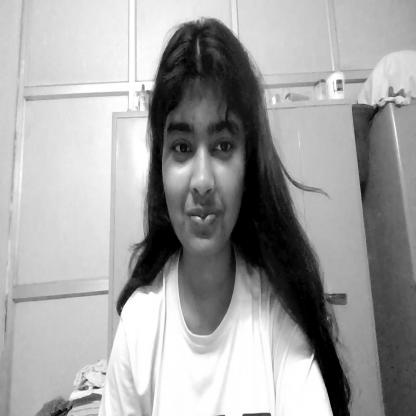Normal: (149, 18, 258, 260)
